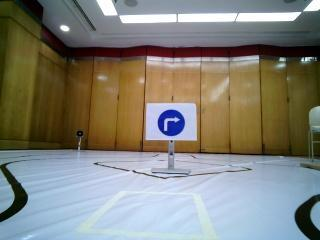right: (145, 100, 197, 140)
